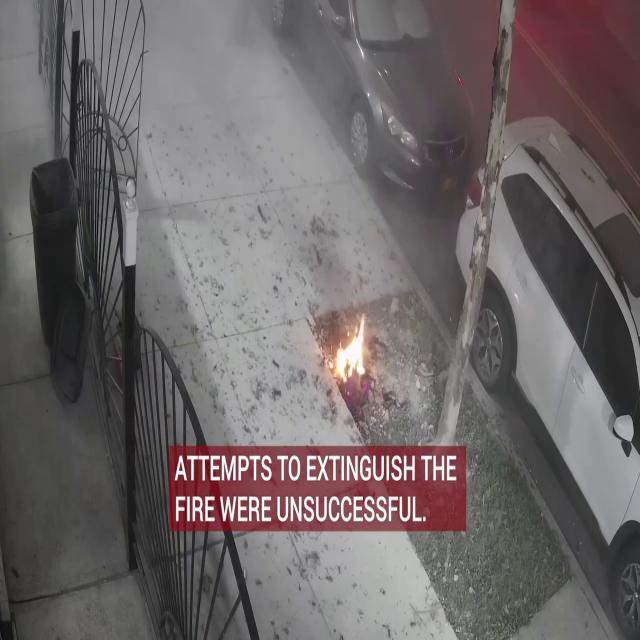Fire: (328, 312, 372, 389)
